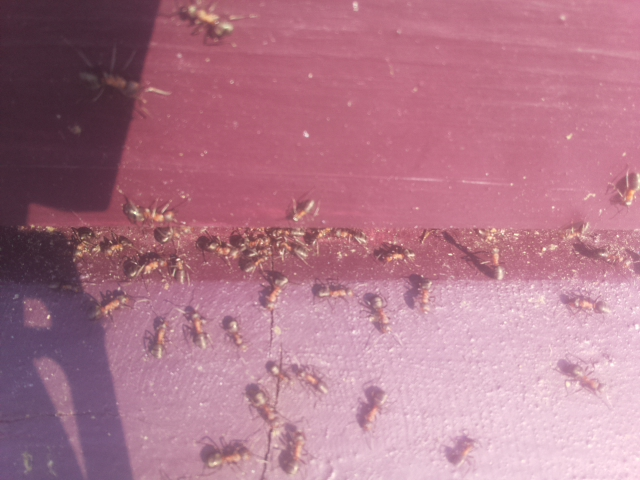ant: (71, 55, 142, 98), (236, 376, 286, 432), (548, 355, 611, 398), (175, 0, 233, 43), (195, 441, 259, 473), (361, 283, 394, 345), (360, 382, 392, 440), (437, 431, 483, 469), (278, 426, 310, 480), (82, 291, 131, 324), (189, 231, 241, 262), (258, 267, 289, 317), (218, 308, 250, 356), (290, 364, 333, 398), (186, 306, 210, 357), (412, 269, 436, 320), (149, 312, 170, 367), (286, 195, 321, 226), (119, 192, 150, 226), (487, 242, 511, 281), (619, 167, 640, 211), (275, 233, 308, 261), (263, 357, 294, 386)
